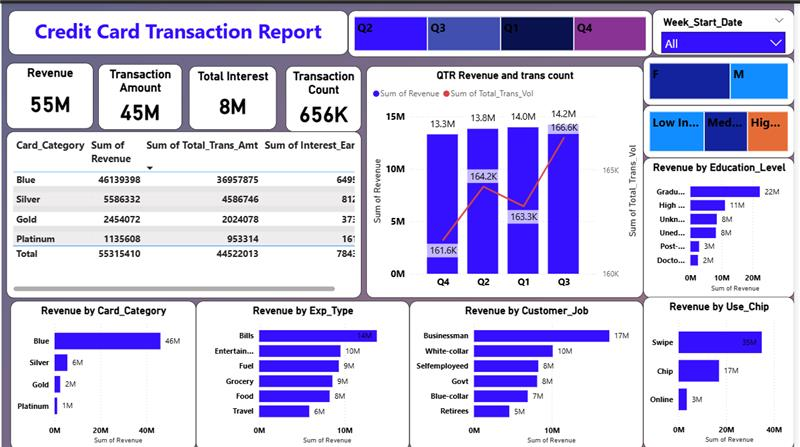

The dashboard page shown, as its layout file describes it:
{"tool":"powerbi","page":{"name":"Credit Card Transaction","canvas":[1280,720],"ordinal":1},"visuals":[{"type":"lineStackedColumnComboChart","title":"QTR Revenue and trans count","fields":{"Category":["cc_detail_Staging1.Qtr"],"Y":["Sum(cc_detail_Staging1.Revenue)"],"Y2":["Sum(cc_detail_Staging1.Total_Trans_Vol)"]},"box":[588.8,100.8,447.3,374.1],"z":0},{"type":"barChart","title":"Revenue by Exp_Type","fields":{"Y":["Sum(cc_detail_Staging1.Revenue)"],"Category":["cc_detail_Staging1.Exp_Type"]},"box":[313.9,479.8,344.8,240.7],"z":1000},{"type":"barChart","title":"Revenue by Customer_Job","fields":{"Y":["Sum(cc_detail_Staging1.Revenue)"],"Category":["cust_detail.Customer_Job"]},"box":[658.8,479.8,377.4,240.7],"z":2000},{"type":"barChart","title":"Revenue by Education_Level","fields":{"Y":["Sum(cc_detail_Staging1.Revenue)"],"Category":["cust_detail.Education_Level"]},"box":[1036.1,248.9,244,226.1],"z":3000},{"type":"barChart","title":"Revenue by Card_Category","fields":{"Y":["Sum(cc_detail_Staging1.Revenue)"],"Category":["cc_detail_Staging1.Card_Category"]},"box":[14.6,479.8,299.3,240.7],"z":4000},{"type":"barChart","title":"Revenue by Use_Chip","fields":{"Y":["Sum(cc_detail_Staging1.Revenue)"],"Category":["cc_detail_Staging1.Use_Chip"]},"box":[1036,474,244,246],"z":5000},{"type":"tableEx","fields":{"Values":["cc_detail_Staging1.Card_Category","Sum(cc_detail_Staging1.Revenue)","Sum(cc_detail_Staging1.Total_Trans_Amt)","Sum(cc_detail_Staging1.Interest_Earned)"]},"box":[8.1,206.6,572.5,268.4],"z":6000},{"type":"card","title":"Revenue","fields":{"Values":["Sum(cc_detail_Staging1.Revenue)"]},"box":[8.1,96,139.9,105.7],"z":7000},{"type":"card","title":"Transaction Amount","fields":{"Values":["Sum(cc_detail_Staging1.Total_Trans_Amt)"]},"box":[156.1,97.6,135,105.7],"z":8000},{"type":"card","title":"Total Interest","fields":{"Values":["Sum(cc_detail_Staging1.Interest_Earned)"]},"box":[302.5,100.8,141.5,102.5],"z":9000},{"type":"card","title":"Transaction Count","fields":{"Values":["Sum(cc_detail_Staging1.Total_Trans_Vol)"]},"box":[458.7,100.8,122,105.7],"z":10000},{"type":"slicer","fields":{"Values":["cc_detail_Staging1.Week_Start_Date"]},"box":[1050.7,9.8,229.3,73.2],"z":11000},{"type":"treemap","fields":{"Group":["cc_detail_Staging1.Qtr"],"Values":["CountNonNull(cc_detail_Staging1.Client_Num)"]},"box":[559.5,11.4,491.2,74.8],"z":12000},{"type":"treemap","fields":{"Group":["cust_detail.Gender"],"Values":["CountNonNull(cc_detail_Staging1.Client_Num)"]},"box":[1036.1,86.2,244,78.1],"z":13000},{"type":"treemap","fields":{"Group":["cust_detail.Income Group"],"Values":["CountNonNull(cc_detail_Staging1.Client_Num)"]},"box":[1036.1,164.3,244,84.6],"z":14000},{"type":"textbox","box":[11.4,11.4,548.1,71.6],"z":15000}]}

Visuals, with their boxes in screenshot pixels (x1, y1, x2, y2), scaled from the page's 1280x720 canvas onto the 800x447 screenshot:
"QTR Revenue and trans count" lineStackedColumnComboChart: box=[368, 63, 648, 295]
"Revenue by Exp_Type" barChart: box=[196, 298, 412, 446]
"Revenue by Customer_Job" barChart: box=[412, 298, 648, 446]
"Revenue by Education_Level" barChart: box=[648, 155, 799, 295]
"Revenue by Card_Category" barChart: box=[9, 298, 196, 446]
"Revenue by Use_Chip" barChart: box=[648, 294, 799, 446]
tableEx - cc_detail_Staging1.Card_Category x Sum(cc_detail_Staging1.Revenue): box=[5, 128, 363, 295]
"Revenue" card: box=[5, 60, 92, 125]
"Transaction Amount" card: box=[98, 61, 182, 126]
"Total Interest" card: box=[189, 63, 278, 126]
"Transaction Count" card: box=[287, 63, 363, 128]
slicer - cc_detail_Staging1.Week_Start_Date: box=[657, 6, 799, 52]
treemap - cc_detail_Staging1.Qtr x CountNonNull(cc_detail_Staging1.Client_Num): box=[350, 7, 657, 54]
treemap - cust_detail.Gender x CountNonNull(cc_detail_Staging1.Client_Num): box=[648, 54, 799, 102]
treemap - cust_detail.Income Group x CountNonNull(cc_detail_Staging1.Client_Num): box=[648, 102, 799, 155]
textbox: box=[7, 7, 350, 52]
